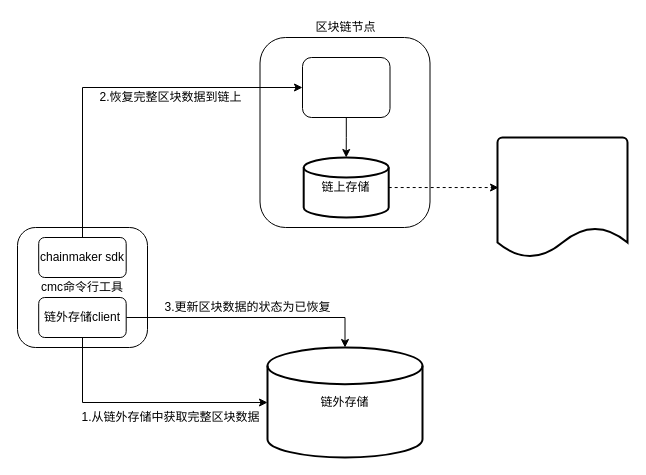
This 646x475 diagram has some shape labels left out. The centre of each missing label's shape, as x and y in pixels:
"RPC server" belongs at (346,87).
"在恢复数据后，异步调用compaction释放磁盘空间" belongs at (562,197).
